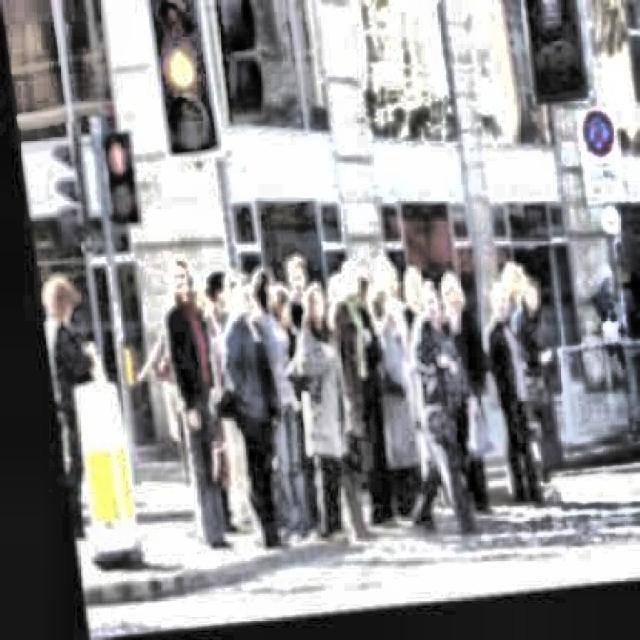semaforo pedestre: (78, 115, 158, 248)
